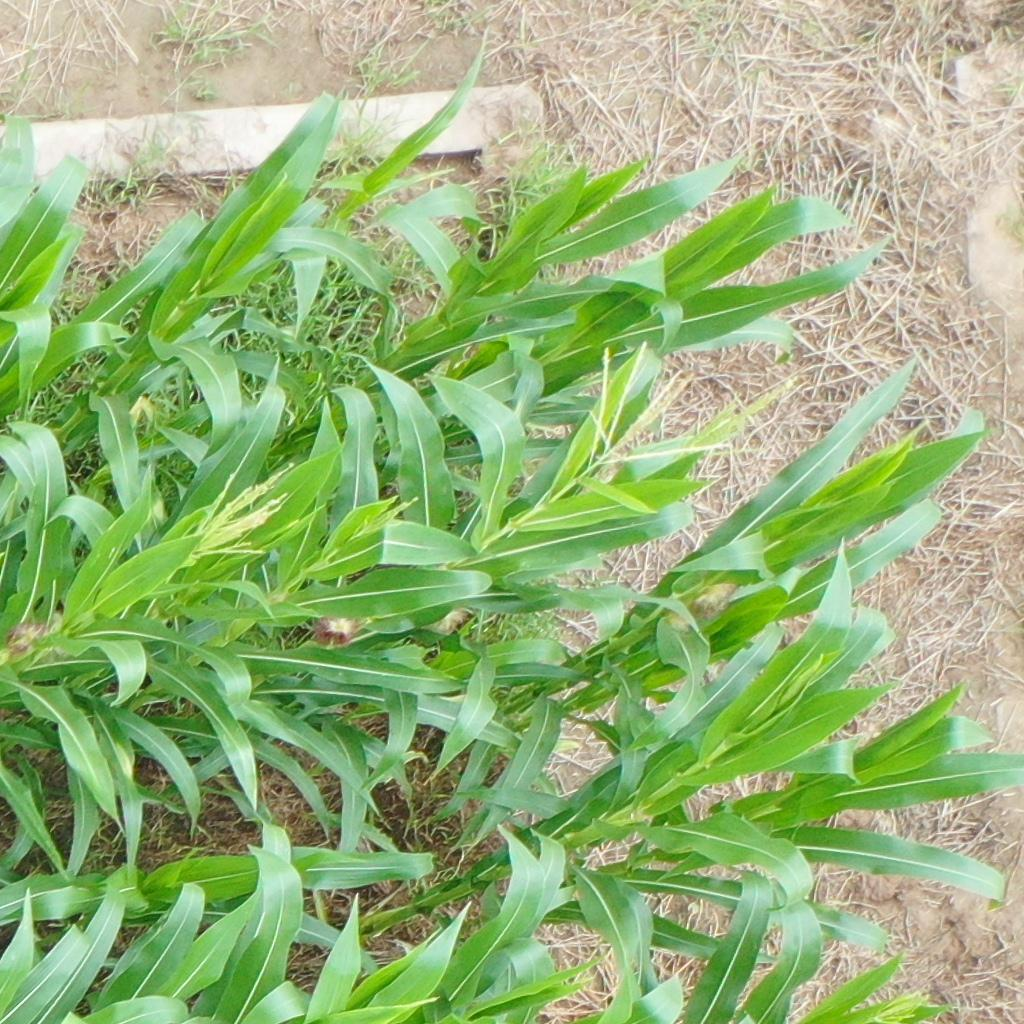Tassel: (586, 344, 737, 467), (173, 457, 297, 567), (691, 373, 804, 462), (357, 492, 422, 534), (783, 650, 824, 710), (872, 985, 934, 1024)
